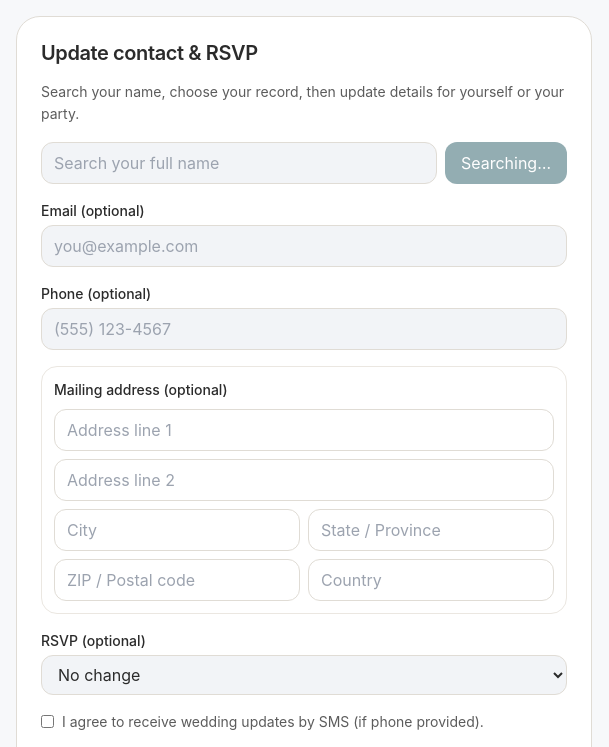
Test: GuestContactUpdate › keeps manual lookup failures guest-safe instead of surfacing backend detail
The width and height of the screenshot is (609, 747).
Type "Maya Lopez" into the field with placeholder "Search your full name" at (239, 163), box [41, 142, 437, 184]
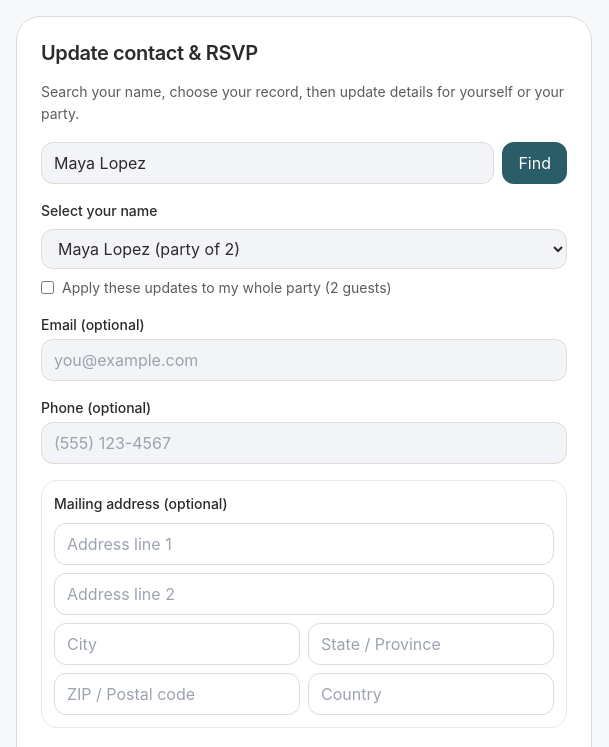
Click the button "Find" at (535, 163), box [502, 142, 567, 184]
(page scrolled)
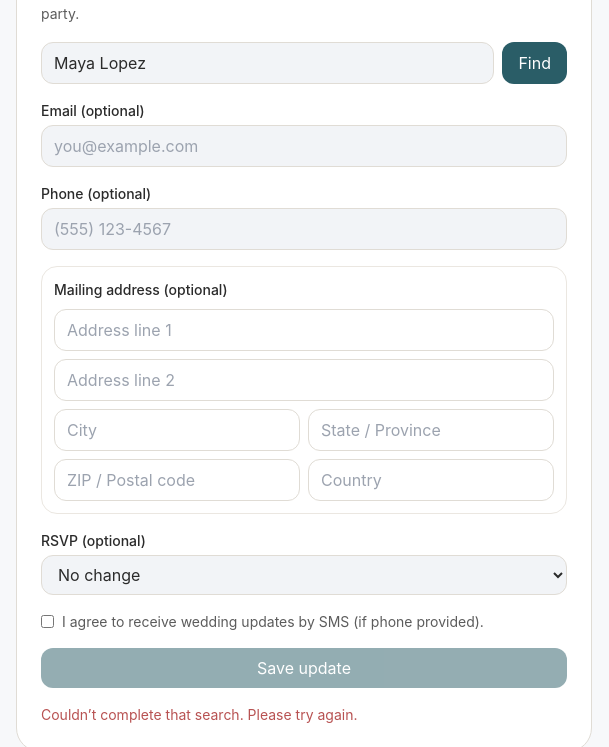
expect the text "Couldn’t complete that search. Please try again." is shown: met, box [41, 706, 358, 723]
expect the text "Apply these updates to my whole party (2 guests)" is gone: met
